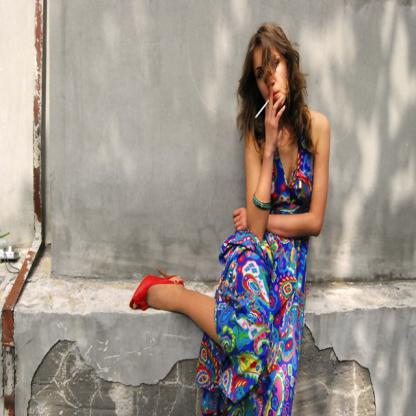smoking: (255, 98, 270, 119)
